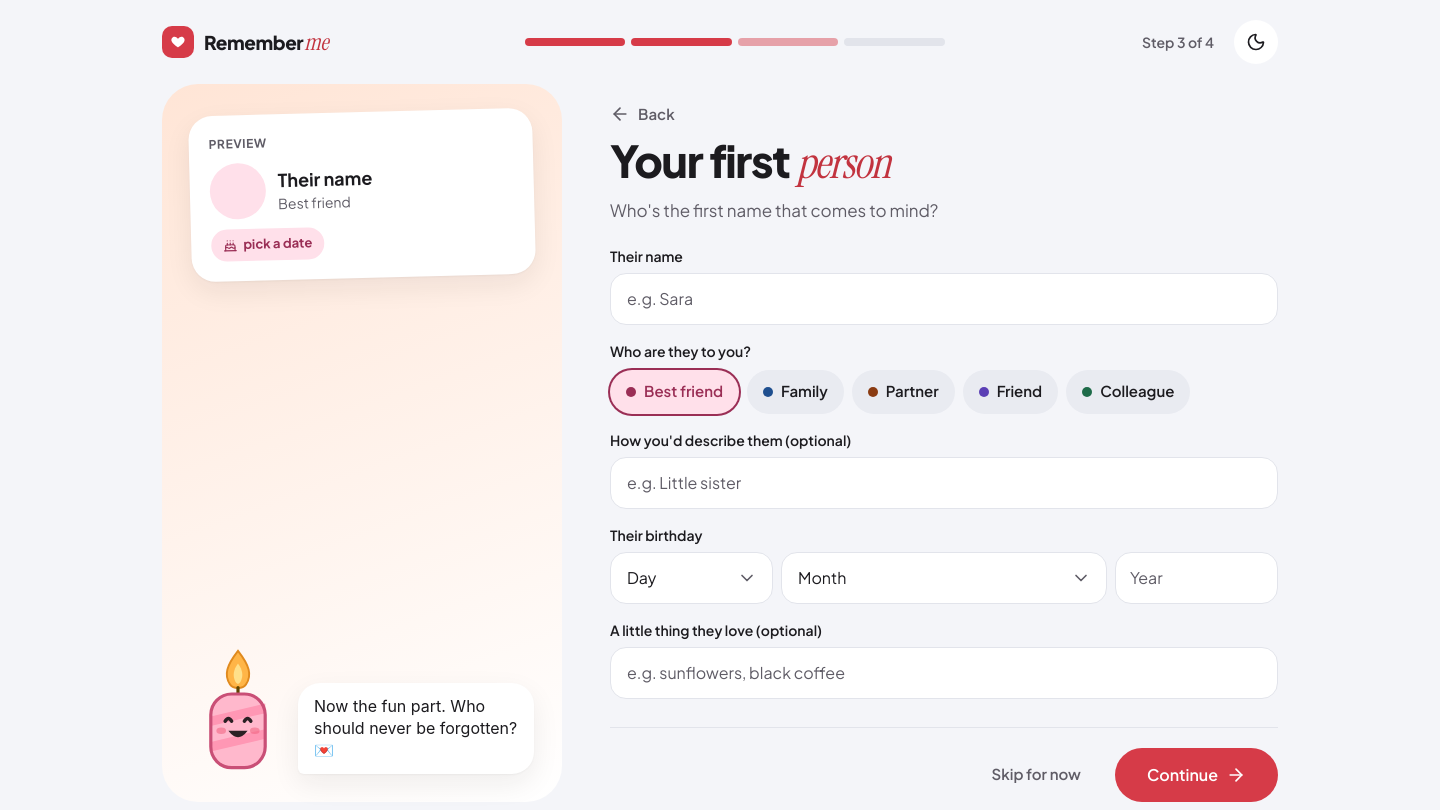
Onboarding · step 4, Reminders, and Done › asks how you'd describe them (optional, 30 characters) and shows it in the preview
The width and height of the screenshot is (1440, 810).
Step 1. Type "Little sister" into the field labelled "How you'd describe them (optional)" → (944, 483), box [610,457,1278,509]
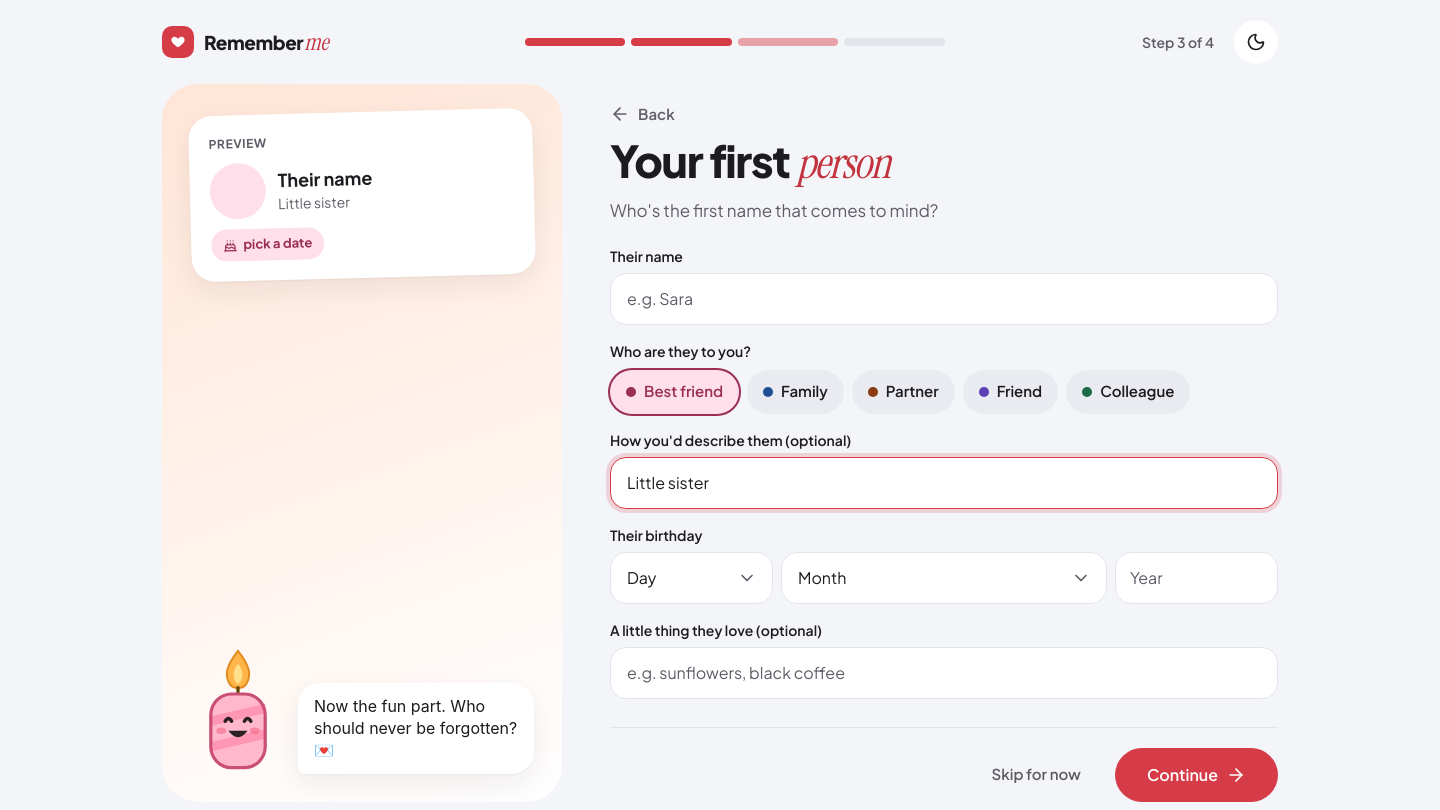
Result: the text "Best friend" reads "Little sister" at [278,192,350,212]
